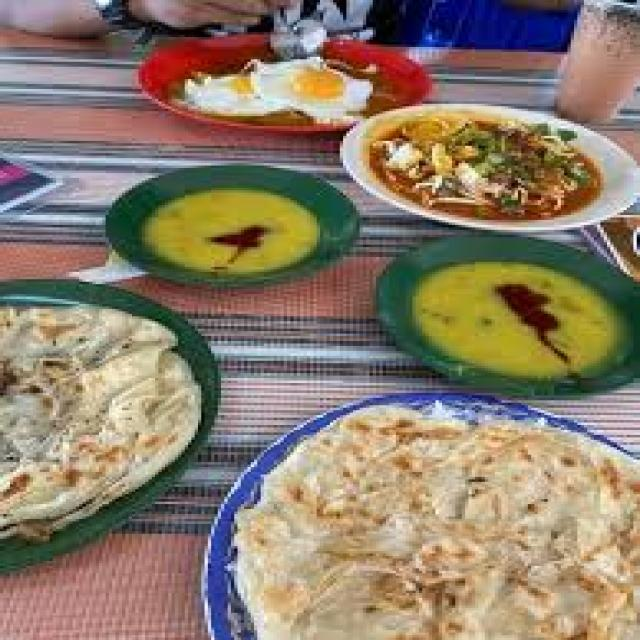Paratha: (228, 417, 638, 640), (1, 296, 202, 511)
